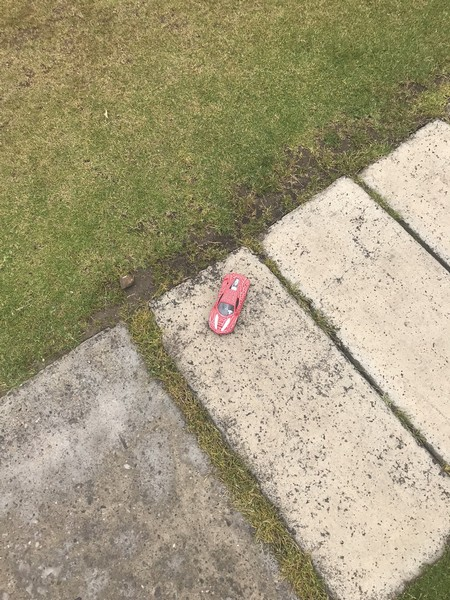RC: (207, 272, 250, 337)
